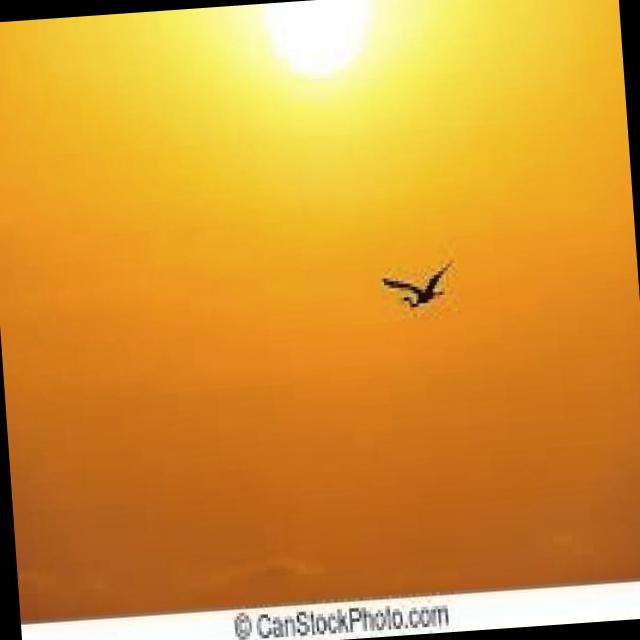bird: (379, 260, 457, 312)
